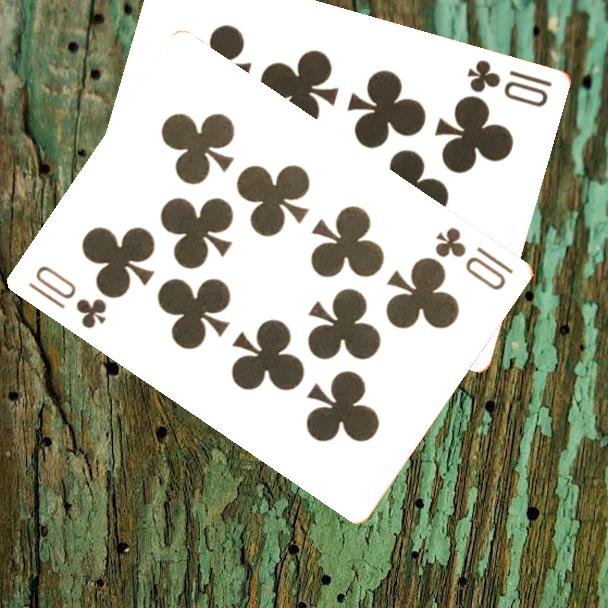c10: (432, 223, 517, 294), (25, 262, 111, 332), (464, 55, 556, 110)
